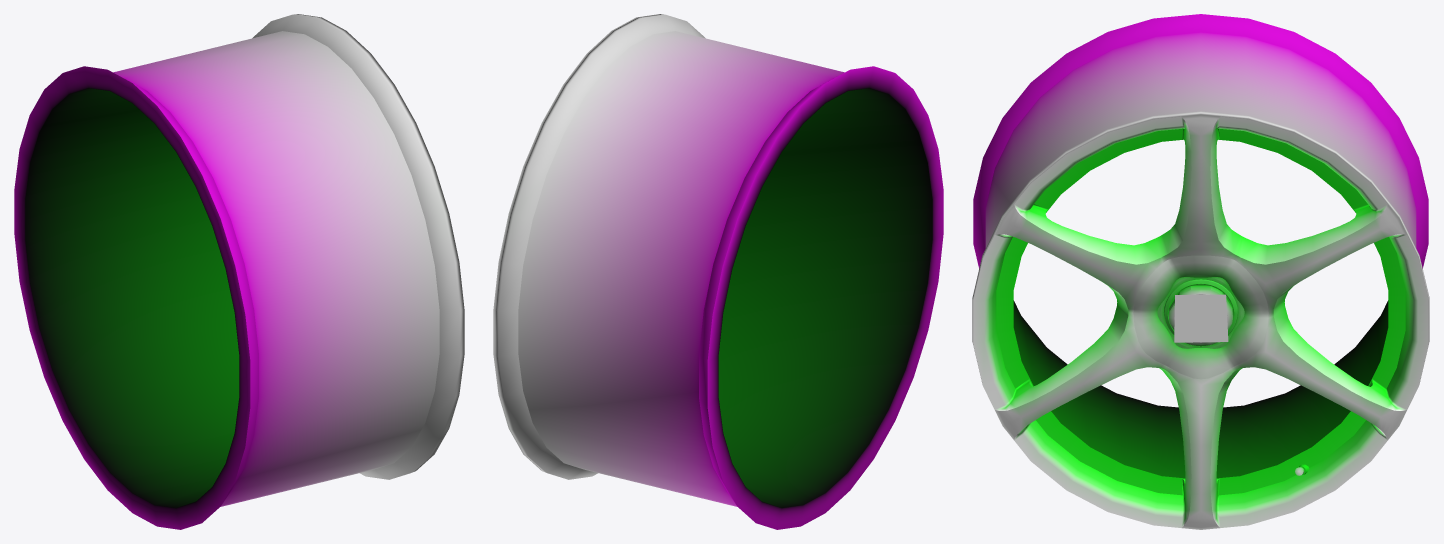
Rendered from Car_Nissan_SkylineGTRVspecR34_1999_WheelFL_SetA.fbx.
3 renders of one model, left to right at view 1: azimuth 30°, elevation 25°; view 2: azimuth 150°, elevation 25°; view 3: azimuth 270°, elevation 25°, orthographic. The views are drawn at different scales.
Visible parts, largest first — view 1: WheelFL 6; view 2: WheelFL 6; view 3: WheelFL 6.
Part boxes in pixels (left/top/right/bottom): WheelFL 6: left=14, top=14, right=464, bottom=529; WheelFL 6: left=493, top=14, right=943, bottom=529; WheelFL 6: left=972, top=14, right=1429, bottom=529.
Bounding box in the file's own units: 0.2592 × 0.4941 × 0.4915.
